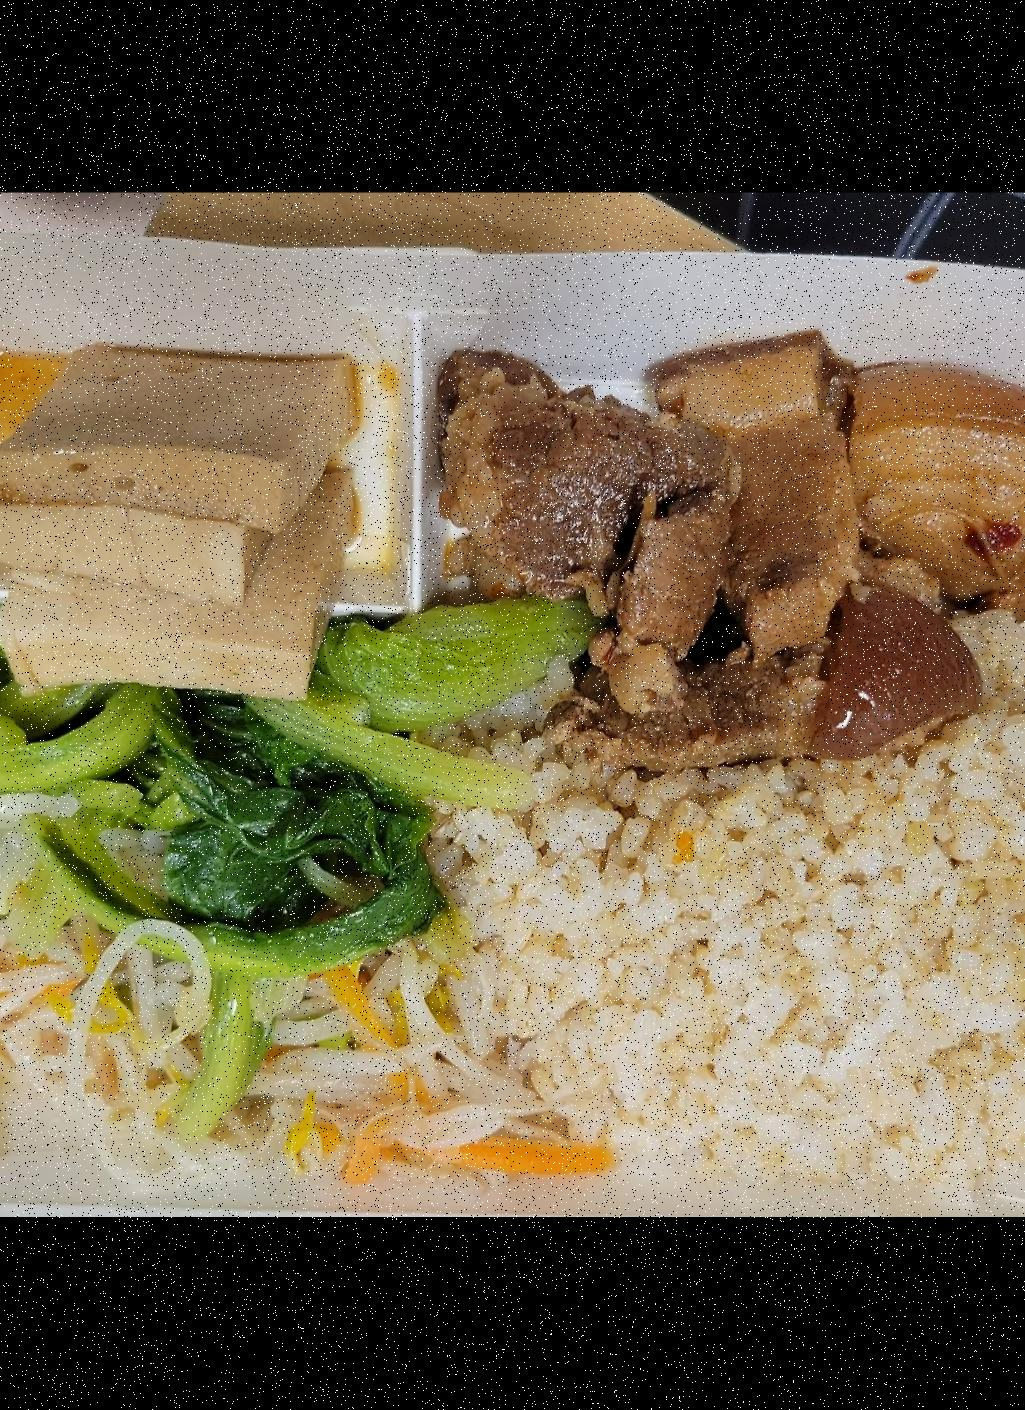box: (0, 209, 1025, 1217)
braised pork: (428, 320, 1025, 761)
brown rice: (447, 644, 1025, 1190)
side dish: (0, 616, 530, 952), (0, 333, 393, 705), (0, 941, 520, 1193)
